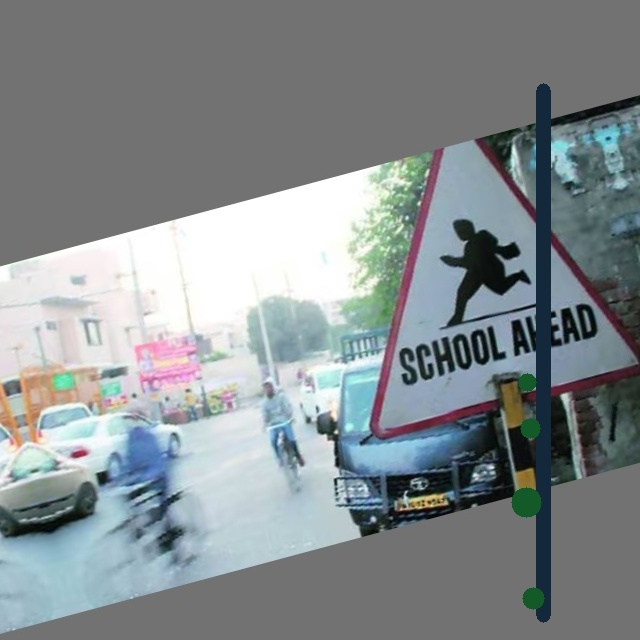School_Ahead: (339, 142, 625, 412)
